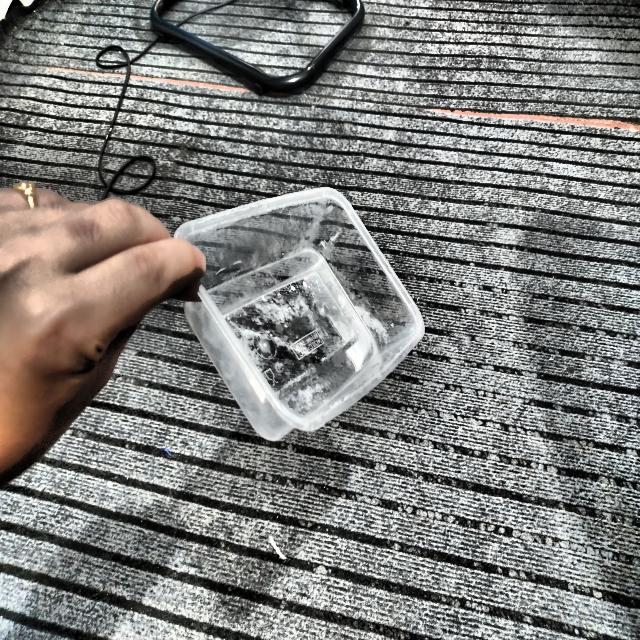plastic container: (176, 188, 424, 440)
